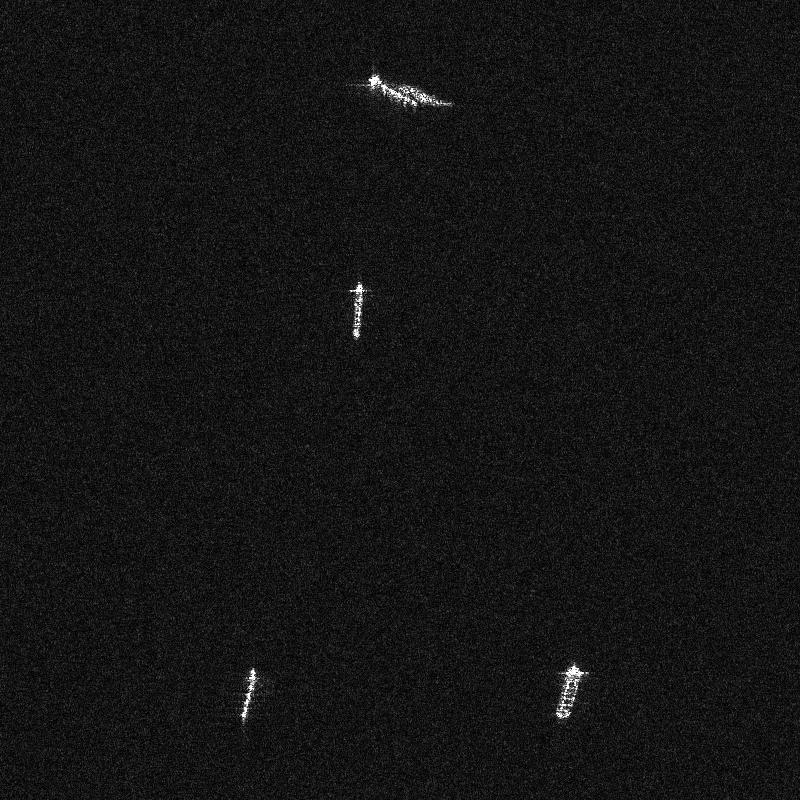ship: (368, 75, 416, 106), (555, 665, 581, 718), (241, 667, 256, 720), (352, 282, 363, 338)
